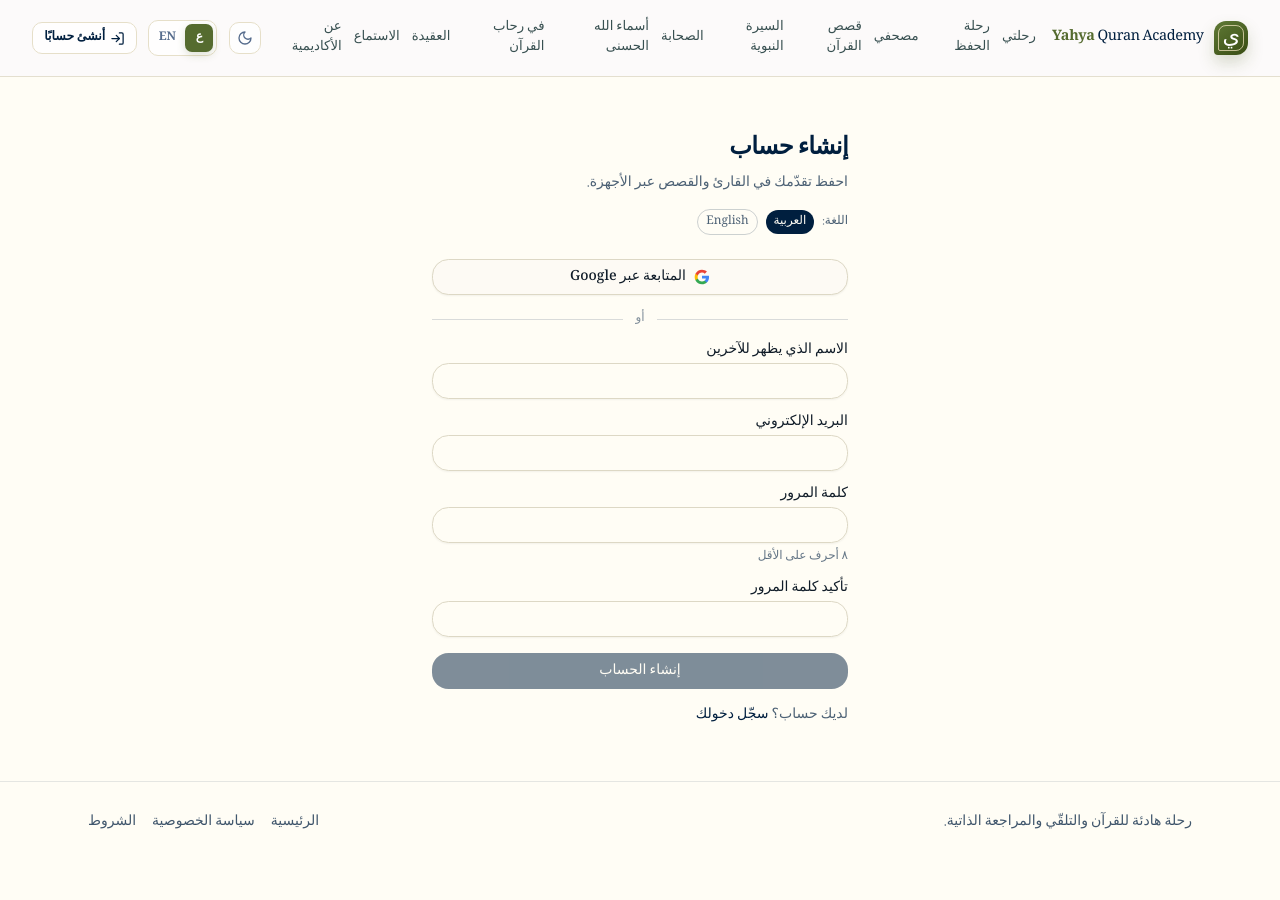
it: the register form's password check › refuses a common password and says so
The width and height of the screenshot is (1280, 900).
Check: the password field with test id "register-password" is shown, box [432,507,848,543]
Type "ahmed@example.com" into the field with test id "register-email".
click(640, 453); type("ahmed@example.com")  # box [432,435,848,471]
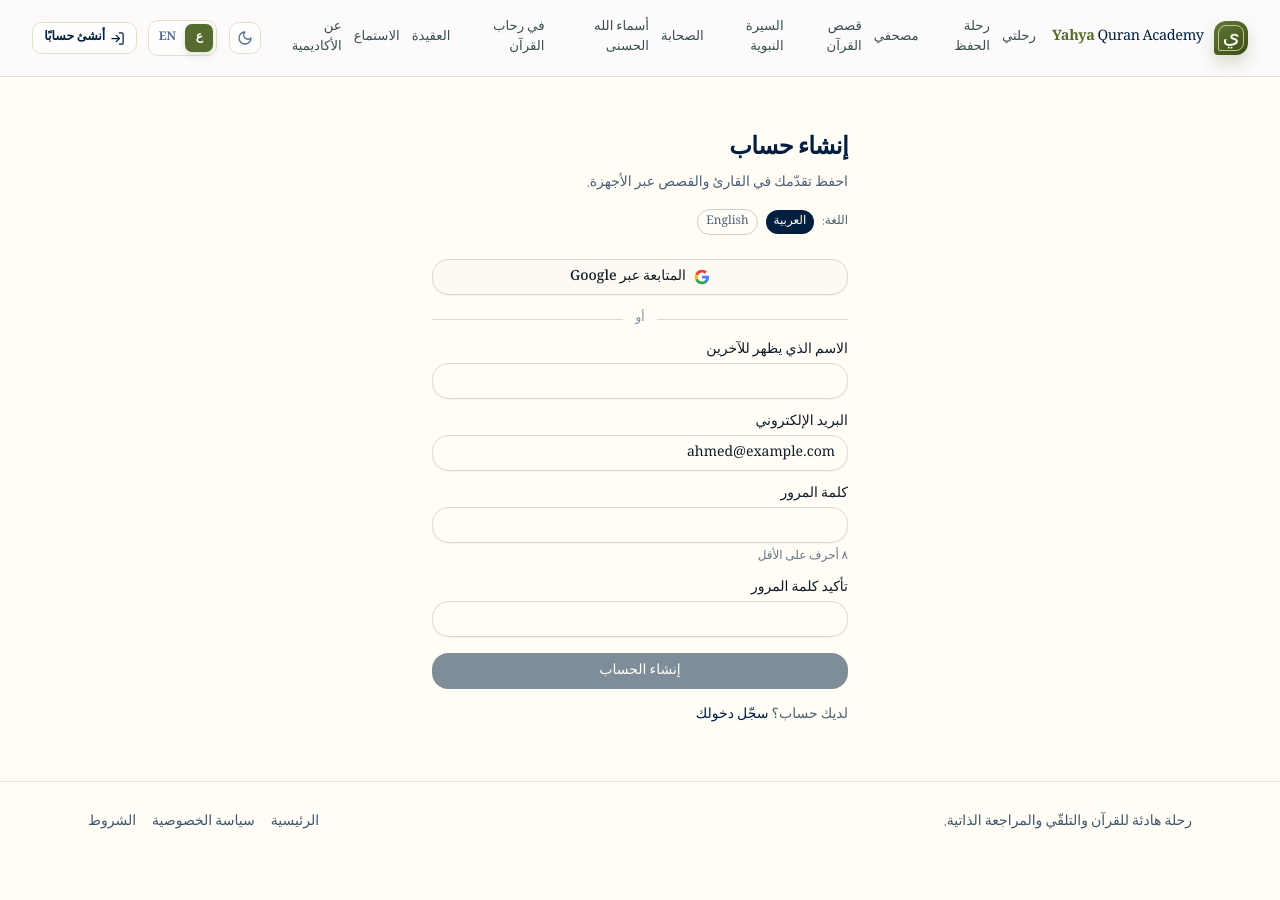
Type "12345678" into the password field with test id "register-password".
click(640, 525); type("12345678")  # box [432,507,848,543]
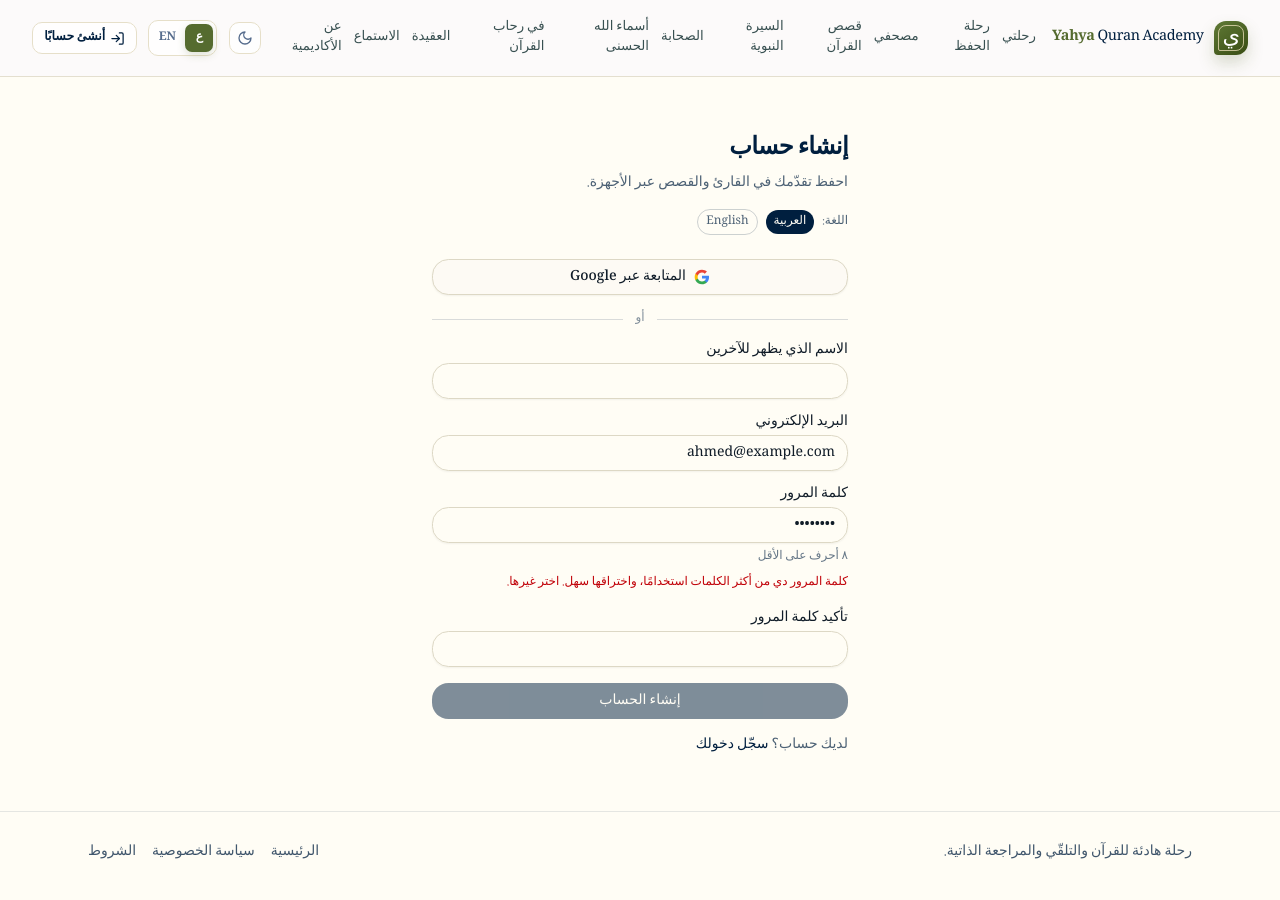
Check: the button with test id "register-submit" is disabled, box [432,683,848,719]
Check: the message reads "كلمة المرور دي من أكثر الكلمات استخدامًا، واختراقها سهل. اختر غيرها.", box [507,572,848,593]
